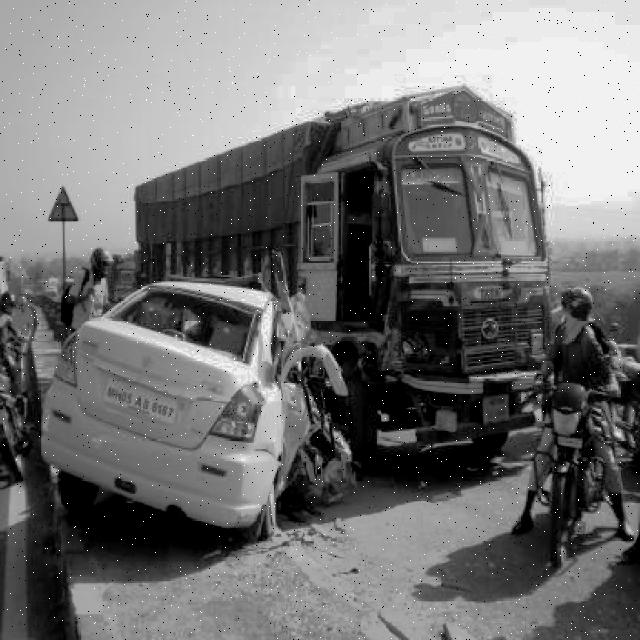HCV: (136, 168, 560, 448)
